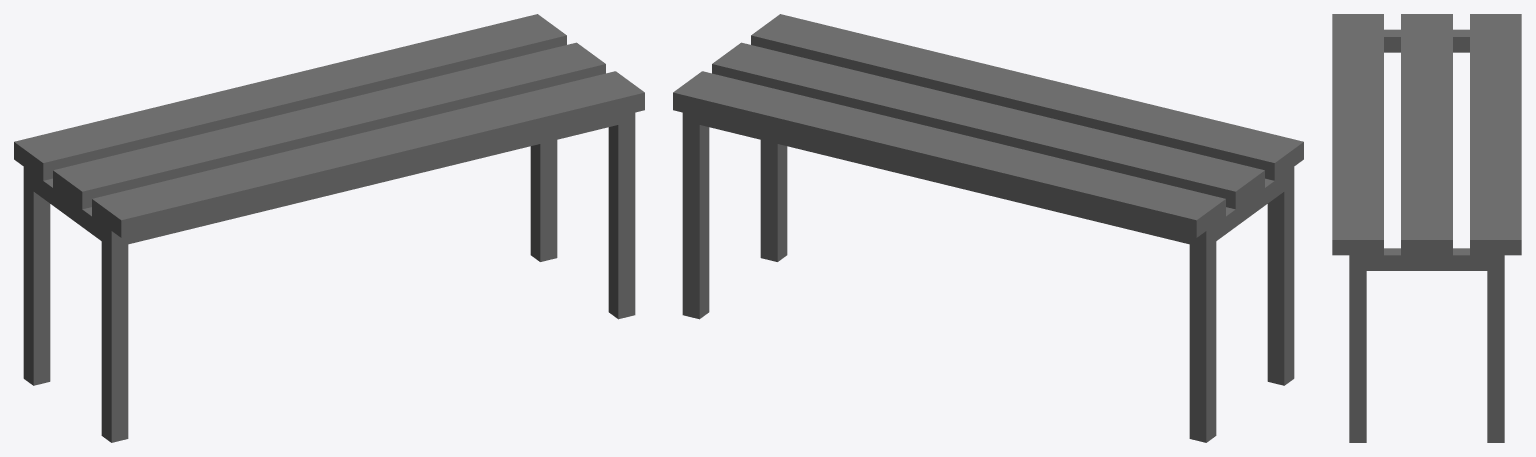
Rendered from Banc.obj.
The picture shows the model from 3 angles, left to right: view 1: azimuth 30°, elevation 25°; view 2: azimuth 150°, elevation 25°; view 3: azimuth 270°, elevation 25°; orthographic projection. The views are drawn at different scales.
Size of the model in its own units: 3.1 by 1.3 by 1.1.
Materials: 1 (1 with a texture image).
